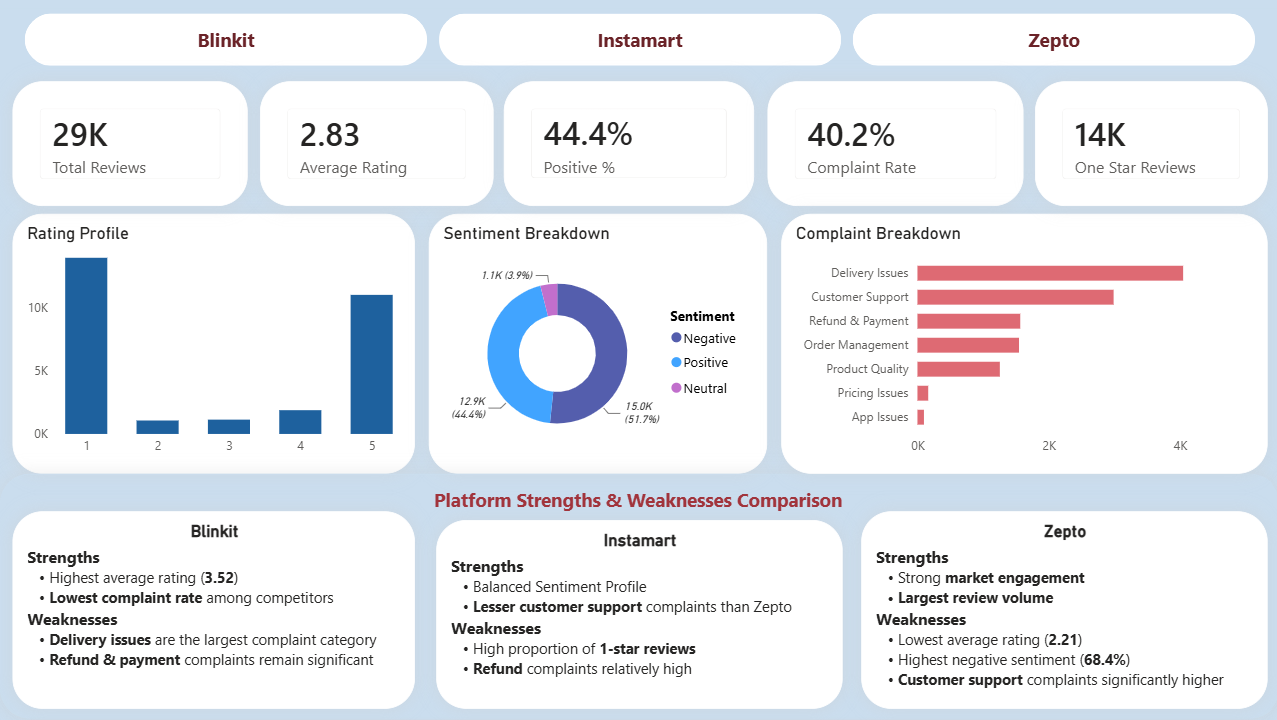

What the dashboard file says about the page in this screenshot:
{"tool":"powerbi","page":{"name":"Platform Deep Dive","canvas":[1280,720],"ordinal":2},"visuals":[{"type":"advancedSlicerVisual","fields":{"Values":["Platform.platform"]},"box":[0,8.1,1280.2,62.8],"z":0},{"type":"clusteredColumnChart","title":"Rating Profile","fields":{"Category":["QuickCommerce_Clean.rating"],"Y":["CountNonNull(QuickCommerce_Clean.review)"]},"box":[12.5,213.8,402.5,260],"z":1000},{"type":"donutChart","title":"Sentiment Breakdown","fields":{"Y":["QuickCommerce_Clean.Total Reviews"],"Category":["QuickCommerce_Clean.Sentiment"]},"box":[429,213.8,338.8,260],"z":2000},{"type":"cardVisual","fields":{"Data":["QuickCommerce_Clean.Total Reviews"]},"box":[12.5,81.2,235,125],"z":3000},{"type":"cardVisual","fields":{"Data":["QuickCommerce_Clean.Average Rating"]},"box":[260.5,81.4,233.7,125],"z":4000},{"type":"cardVisual","fields":{"Data":["QuickCommerce_Clean.Positive %"]},"box":[503.5,81.4,250,124.4],"z":5000},{"type":"cardVisual","fields":{"Data":["QuickCommerce_Complaints.Complaint Rate %"]},"box":[767.5,81.2,256.2,125],"z":6000},{"type":"shape","box":[0,473.8,1280,245],"z":7000},{"type":"barChart","title":"Complaint Breakdown","fields":{"Category":["QuickCommerce_Complaints.Complaint Category"],"Y":["QuickCommerce_Complaints.Complaint Count"]},"box":[781.2,213.8,486.2,260],"z":8000},{"type":"cardVisual","fields":{"Data":["QuickCommerce_Clean.One Star Reviews"]},"box":[1035,81.2,232.5,125],"z":9000},{"type":"textbox","title":"Blinkit","box":[12.5,511.2,402.5,197.5],"z":10000},{"type":"textbox","title":"Instamart","box":[436.2,520,406.2,188.8],"z":11000},{"type":"textbox","title":"Zepto","box":[861.2,511.2,406.2,197.5],"z":12000},{"type":"textbox","box":[415,482.5,446.2,37.5],"z":13000}]}

Visuals, with their boxes in screenshot pixels (x1, y1, x2, y2), scaled from the page's 1280x720 canvas onto the 1277x720 screenshot:
advancedSlicerVisual - Platform.platform: box(0, 8, 1276, 71)
"Rating Profile" clusteredColumnChart: box(12, 214, 414, 474)
"Sentiment Breakdown" donutChart: box(428, 214, 766, 474)
cardVisual - QuickCommerce_Clean.Total Reviews: box(12, 81, 247, 206)
cardVisual - QuickCommerce_Clean.Average Rating: box(260, 81, 493, 206)
cardVisual - QuickCommerce_Clean.Positive %: box(502, 81, 752, 206)
cardVisual - QuickCommerce_Complaints.Complaint Rate %: box(766, 81, 1021, 206)
shape: box(0, 474, 1276, 719)
"Complaint Breakdown" barChart: box(779, 214, 1264, 474)
cardVisual - QuickCommerce_Clean.One Star Reviews: box(1033, 81, 1265, 206)
"Blinkit" textbox: box(12, 511, 414, 709)
"Instamart" textbox: box(435, 520, 840, 709)
"Zepto" textbox: box(859, 511, 1264, 709)
textbox: box(414, 482, 859, 520)
